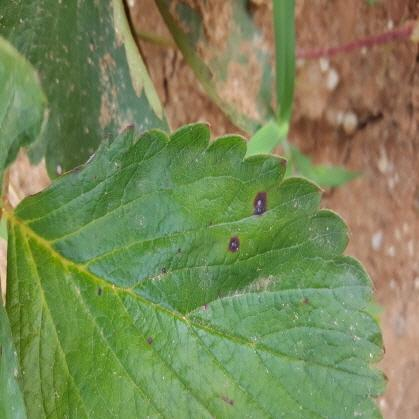Leaf Spot: (4, 121, 389, 418), (0, 0, 173, 182)
